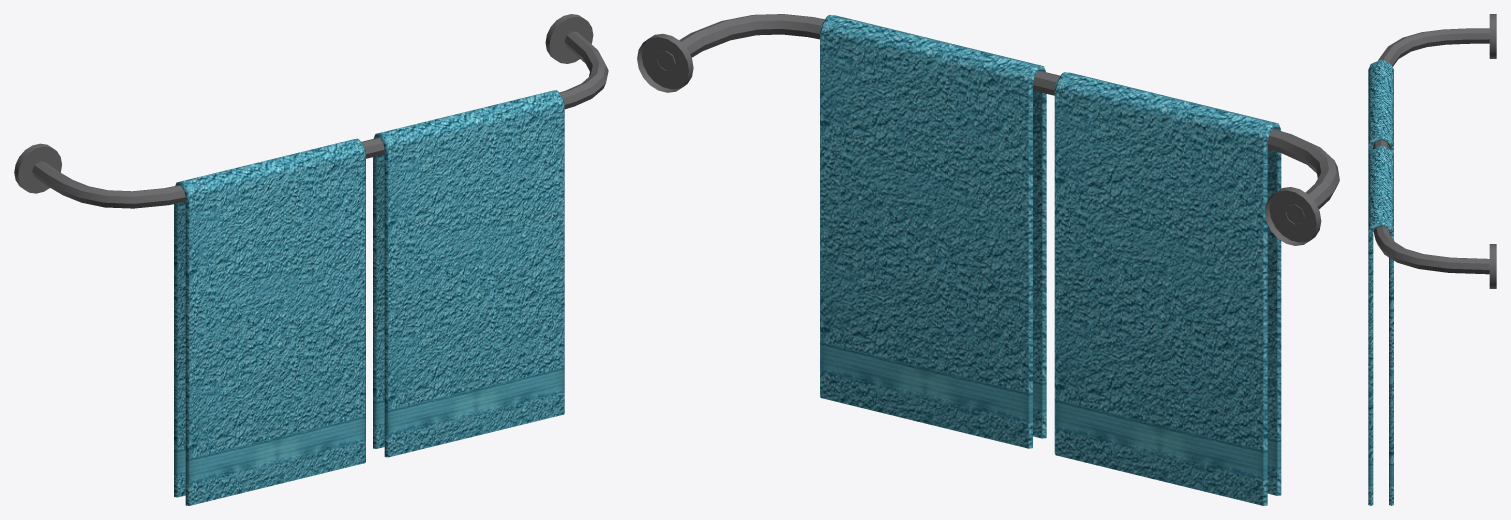
Rendered from hanging towel.FBX.
The picture shows the model from 3 angles, left to right: view 1: azimuth 30°, elevation 25°; view 2: azimuth 150°, elevation 25°; view 3: azimuth 270°, elevation 25°; orthographic projection. The views are drawn at different scales.
Visible parts, largest first — view 1: hanging towel; view 2: hanging towel; view 3: hanging towel.
Part boxes in pixels (bbox=[...]): hanging towel: bbox=[14, 14, 608, 505]; hanging towel: bbox=[637, 14, 1339, 505]; hanging towel: bbox=[1368, 14, 1496, 505].
Size of the model in its own units: 36.06 by 7.84 by 19.67.
